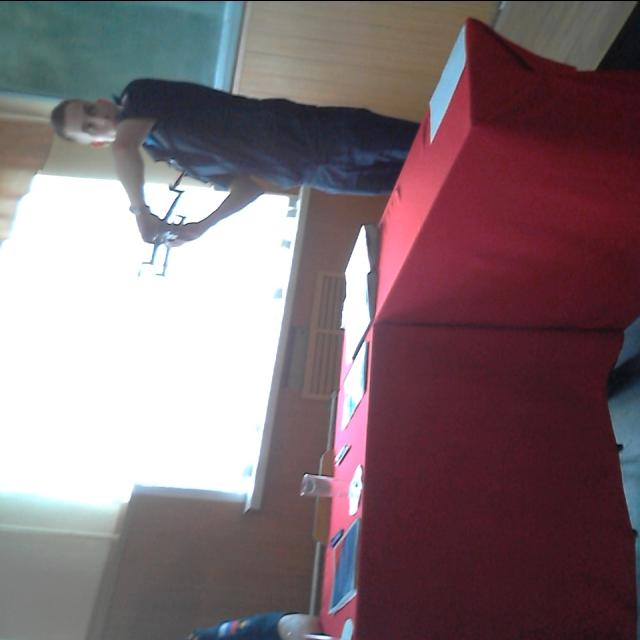drone: (123, 181, 205, 285)
